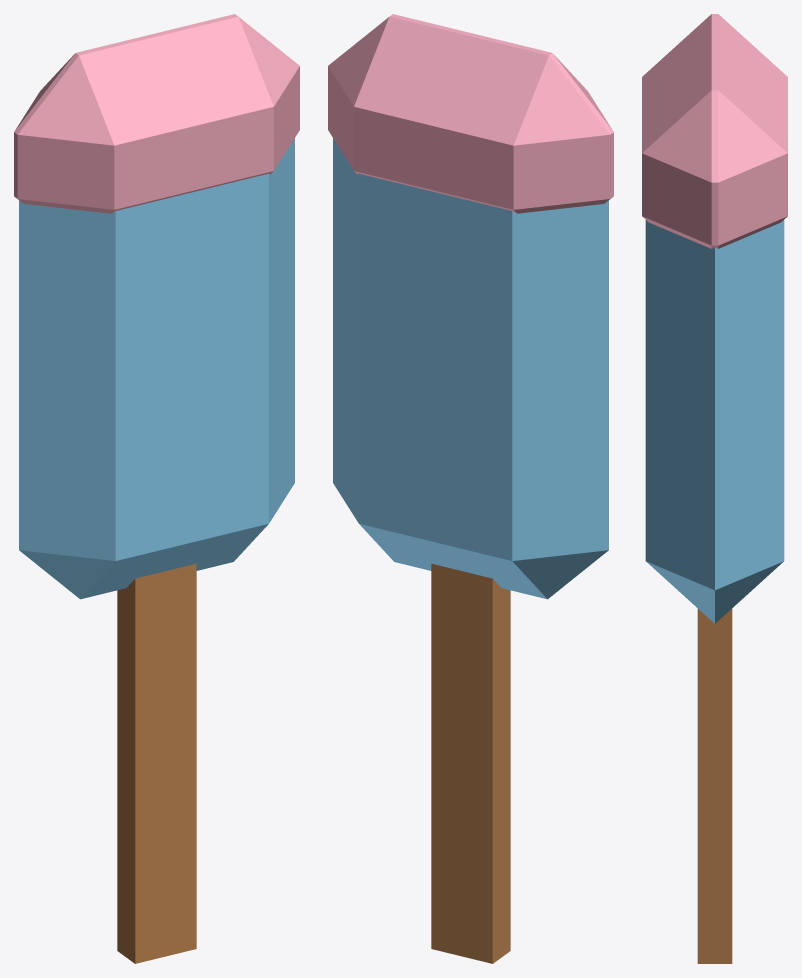
Rendered from good_popsicle.glb.
3 renders of one model, left to right at view 1: azimuth 30°, elevation 25°; view 2: azimuth 150°, elevation 25°; view 3: azimuth 270°, elevation 25°, orthographic. The views are drawn at different scales.
Visible parts, largest first — view 1: good_popsicle; view 2: good_popsicle; view 3: good_popsicle.
Part boxes in pixels (box(x1,y1,x2,y2)): good_popsicle: box(14, 14, 299, 963); good_popsicle: box(328, 14, 613, 963); good_popsicle: box(642, 14, 787, 963).
Bounding box in the file's own units: 0.092 × 0.285 × 0.042.
